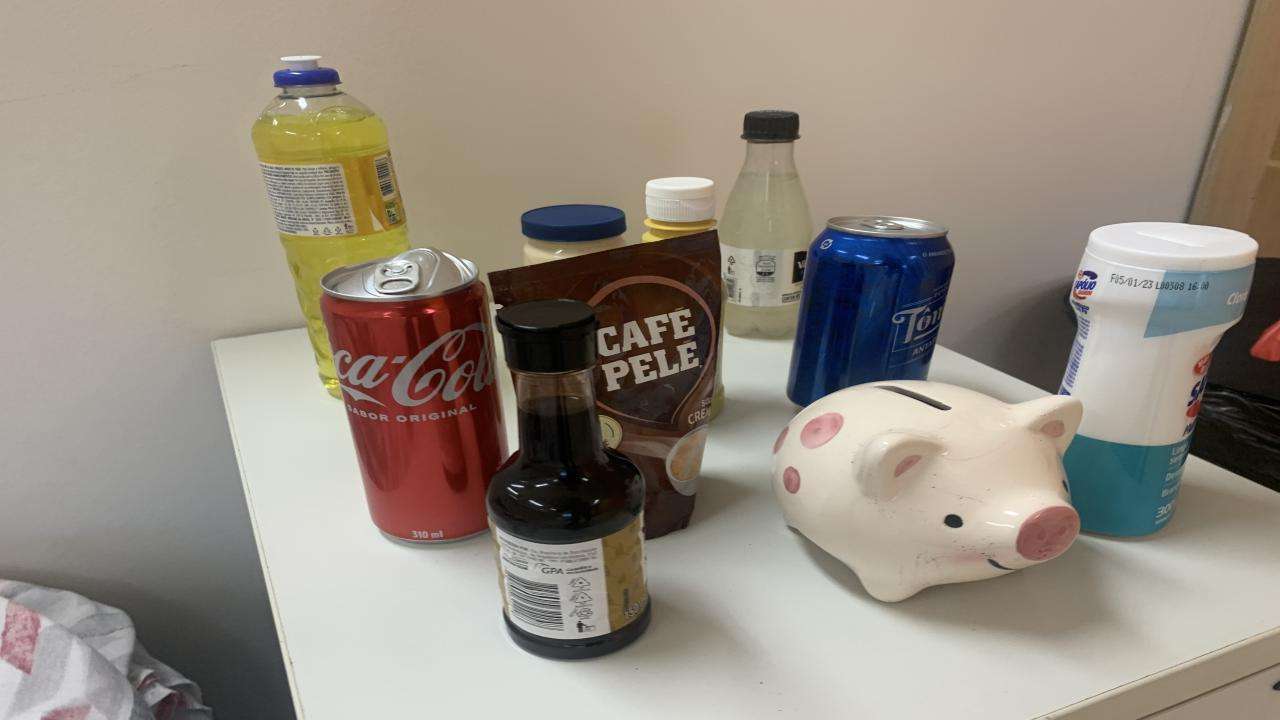Cleaner-Cleanup_Items: (1060, 221, 1258, 536)
Coffee-Pantry_Items: (488, 231, 722, 538)
Coke-Drinks: (320, 248, 508, 540)
Detergent-Cleanup_Items: (252, 56, 410, 396)
English_Sauce-Pantry_Items: (488, 300, 650, 658)
Mayonnaise-Pantry_Items: (520, 204, 628, 266)
Mustard-Pantry_Items: (642, 176, 718, 242)
Pig_Safe-Miscellaneous: (772, 381, 1082, 602)
Soda-Drinks: (718, 111, 812, 338)
Tonic-Drinks: (788, 216, 955, 407)
